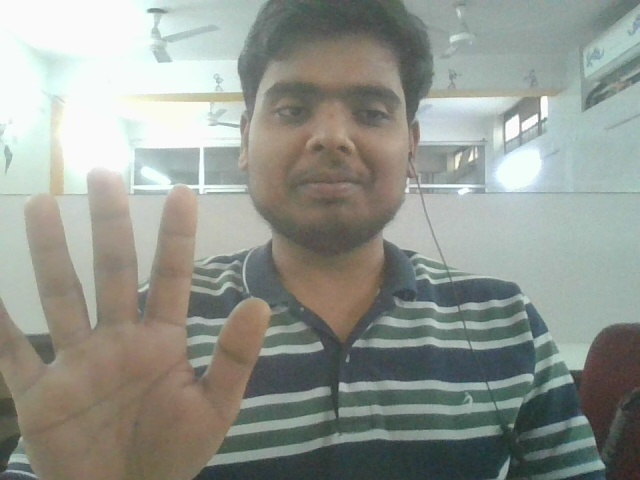Hello: (1, 151, 295, 476)
